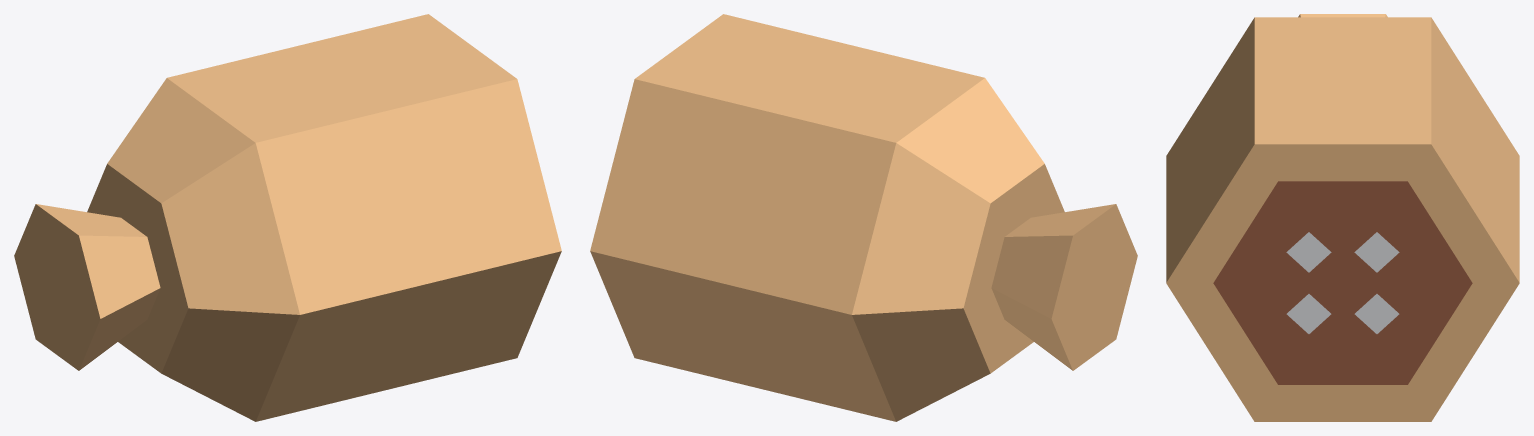
File: sausageHalf.fbx
3 views of the same model, side by side, from view 1: azimuth 30°, elevation 25°; view 2: azimuth 150°, elevation 25°; view 3: azimuth 270°, elevation 25° (orthographic).
Parts seen in each view (by area): view 1: sausageHalf; view 2: sausageHalf; view 3: sausageHalf.
Part boxes in pixels (x1,y1,x2,y2): sausageHalf: (14,14,561,421); sausageHalf: (590,14,1137,421); sausageHalf: (1166,14,1519,421).
Bounding box in the file's own units: 1.85 × 1.19 × 1.37.
